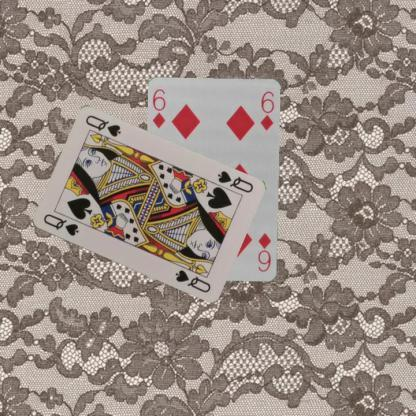6d: (255, 230, 273, 274), (150, 86, 167, 130)
Qs: (40, 212, 80, 238), (214, 168, 254, 194)
